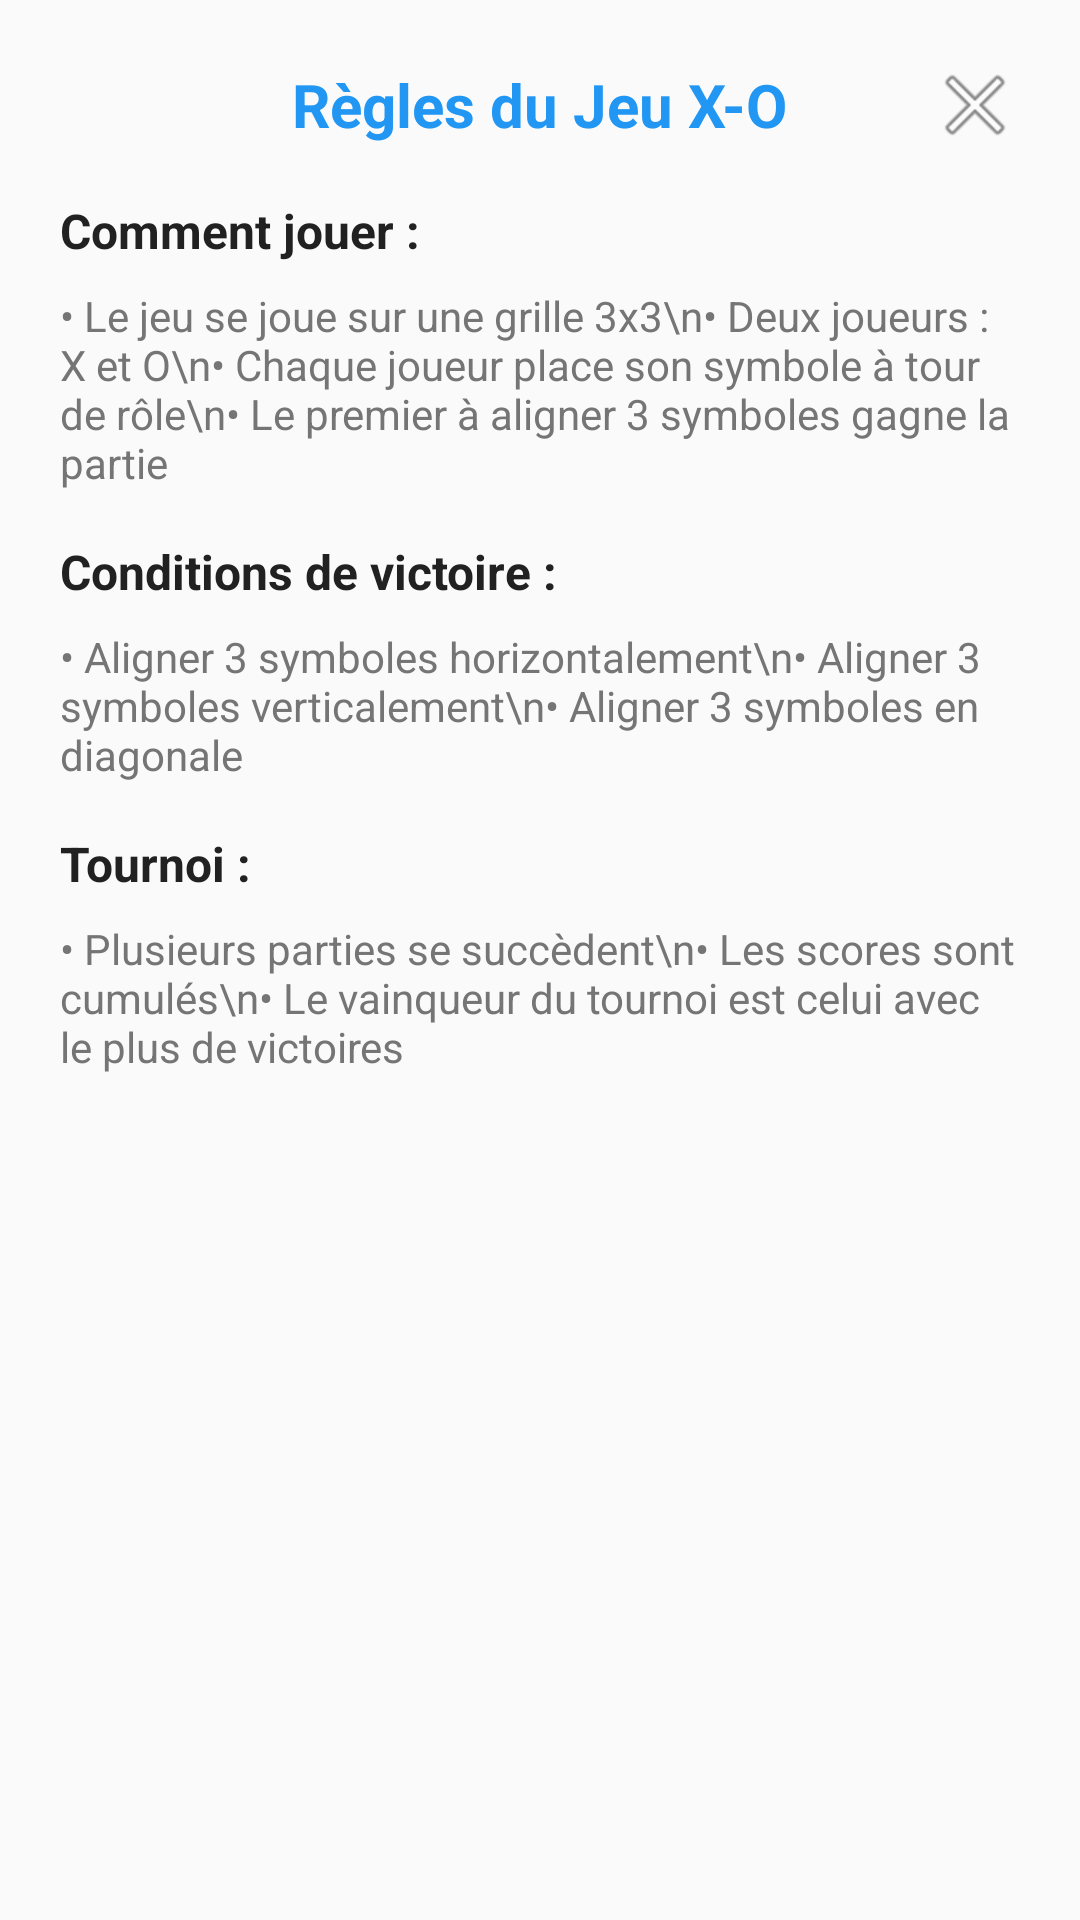

Where to tap for icons on this 1080x1920 app screen, as (x,y):
Fermer: (975,105)
